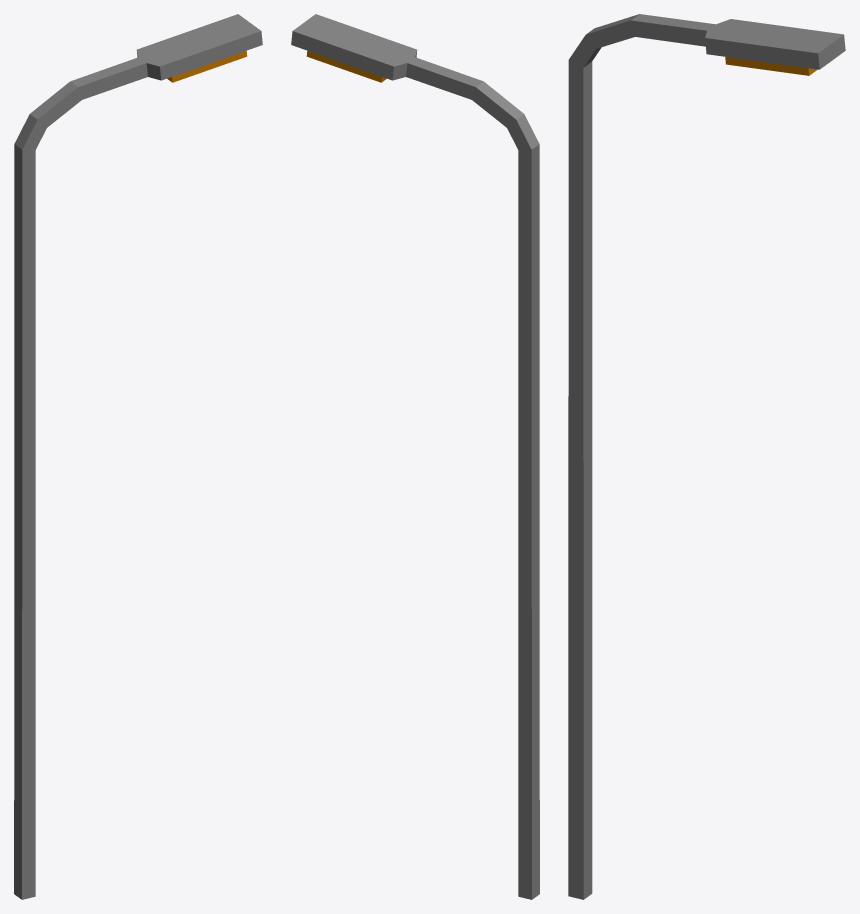
File: fonar.fbx
3 views of the same model, side by side, from view 1: azimuth 30°, elevation 25°; view 2: azimuth 150°, elevation 25°; view 3: azimuth 330°, elevation 25° (orthographic). The views are drawn at different scales.
Visible parts, largest first — view 1: fonar; view 2: fonar; view 3: fonar.
Boxes of the visible parts, x1,y1,x2,y2 form: fonar: [14, 14, 262, 899]; fonar: [291, 14, 539, 899]; fonar: [568, 14, 845, 899].
Size of the model in its own units: 219 by 733 by 37.77.
